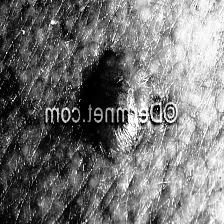Potentially Malignant Skin Tumors: (86, 46, 138, 148)
